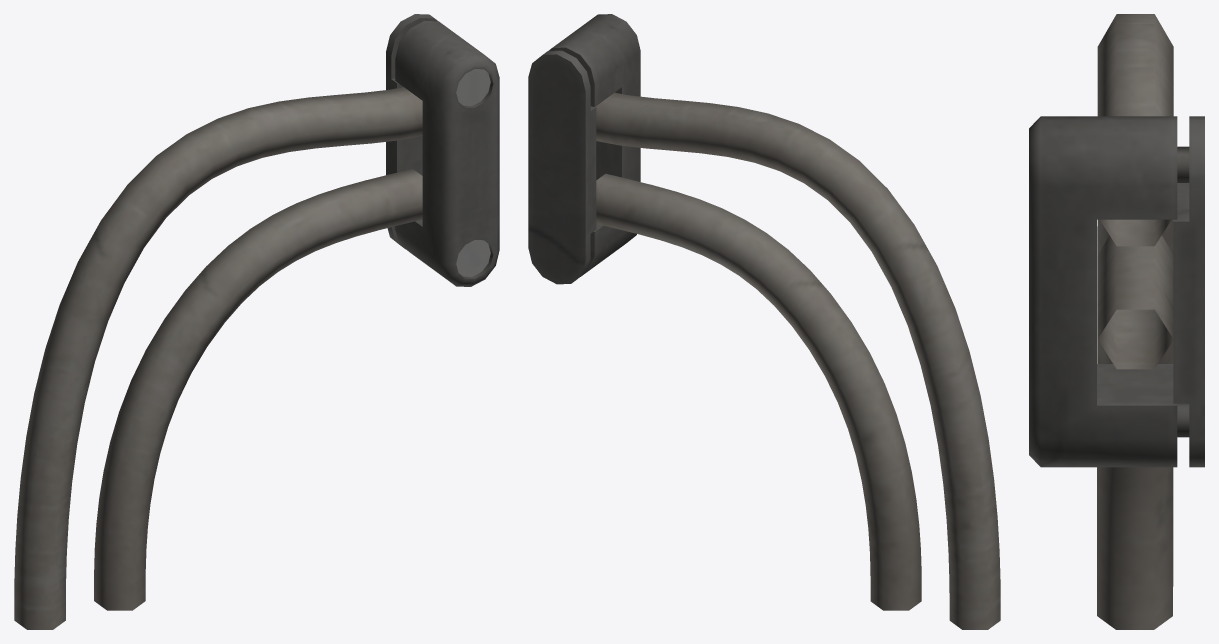
File: cable_cable_double_turn_short.fbx
3 renders of one model, left to right at view 1: azimuth 30°, elevation 25°; view 2: azimuth 150°, elevation 25°; view 3: azimuth 270°, elevation 25°, orthographic. The views are drawn at different scales.
Visible parts, largest first — view 1: modular_electric_cables__cable_double_turn_short; view 2: modular_electric_cables__cable_double_turn_short; view 3: modular_electric_cables__cable_double_turn_short.
Part boxes in pixels (left/top/right/bottom): modular_electric_cables__cable_double_turn_short: left=14, top=14, right=499, bottom=629; modular_electric_cables__cable_double_turn_short: left=528, top=14, right=1000, bottom=629; modular_electric_cables__cable_double_turn_short: left=1029, top=14, right=1204, bottom=629.
Bounding box in the file's own units: 0.112 × 0.1178 × 0.0259.
